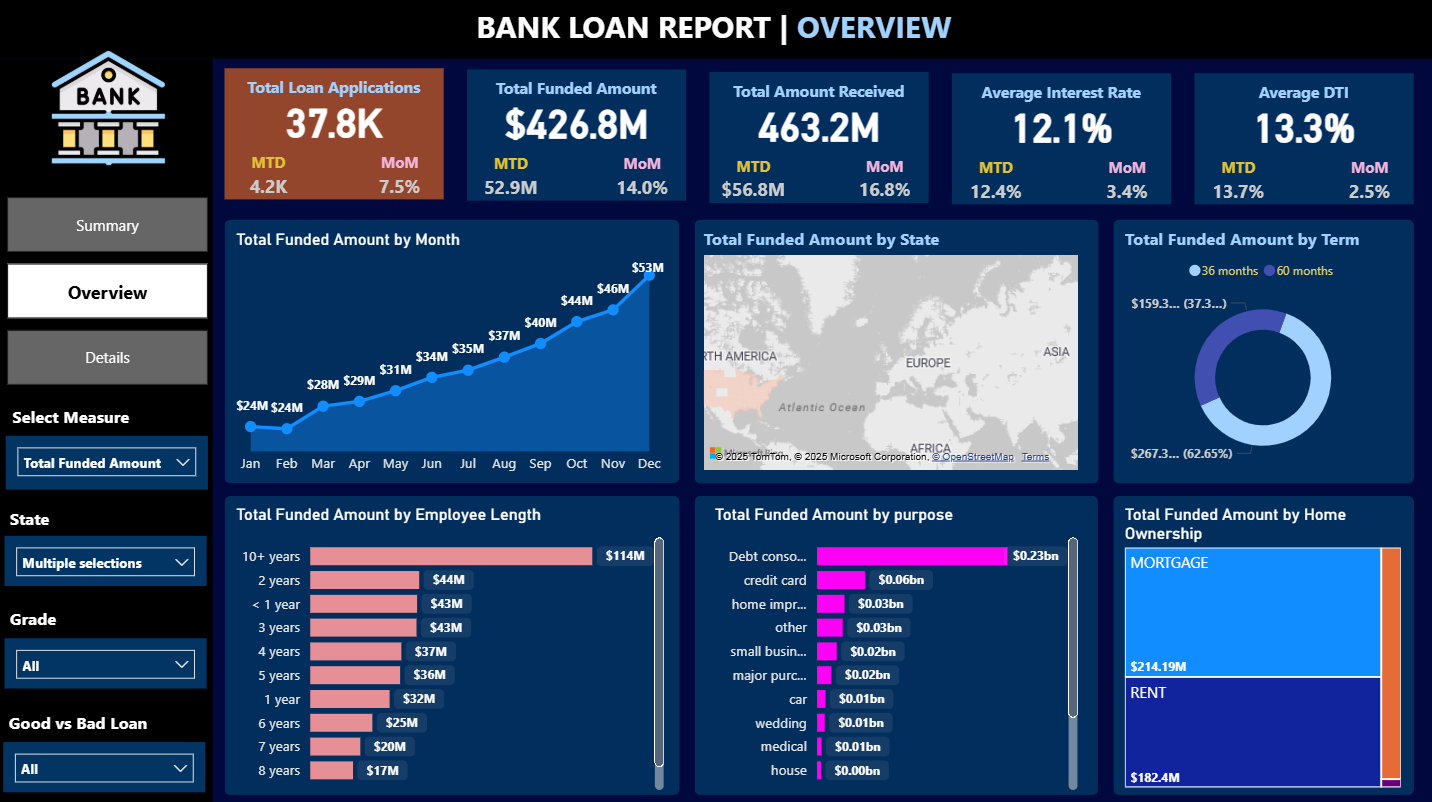

The dashboard page shown, as its layout file describes it:
{"tool":"powerbi","page":{"name":"Overview","canvas":[1280,720],"ordinal":1},"visuals":[{"type":"shape","box":[0,55.5,192,664.7],"z":0},{"type":"shape","box":[202.7,63.9,195.4,117],"z":0,"group":"g3"},{"type":"shape","box":[419.1,64.1,195.4,117],"z":0,"group":"g4"},{"type":"shape","box":[634.8,66.6,195.4,117],"z":0,"group":"g5"},{"type":"shape","box":[850.5,67.9,195.4,117],"z":0,"group":"g6"},{"type":"shape","box":[1066.2,67.9,195.4,117],"z":0,"group":"g7"},{"type":"shape","box":[0,0,1280,55],"z":1000},{"type":"card","fields":{"Values":["bank_loan_data.Total Loan Applications"]},"box":[202.7,88,195.4,43.4],"z":1000,"group":"g3"},{"type":"card","fields":{"Values":["bank_loan_data.Total Funded Amount"]},"box":[419.1,88.2,195.4,43.4],"z":1000,"group":"g4"},{"type":"card","fields":{"Values":["bank_loan_data.Total Amount Recieved"]},"box":[634.8,90.7,195.4,43.4],"z":1000,"group":"g5"},{"type":"card","fields":{"Values":["bank_loan_data.Average Interest Rate"]},"box":[850.5,92,195.4,43.4],"z":1000,"group":"g6"},{"type":"card","fields":{"Values":["bank_loan_data.Average DTI"]},"box":[1066.2,92,195.4,43.4],"z":1000,"group":"g7"},{"type":"textbox","box":[208.7,66.3,183.4,31.4],"z":2000,"group":"g3"},{"type":"textbox","box":[425.1,66.5,183.4,31.4],"z":2000,"group":"g4"},{"type":"textbox","box":[640.8,69,183.4,31.4],"z":2000,"group":"g5"},{"type":"textbox","box":[856.5,70.3,183.4,31.4],"z":2000,"group":"g6"},{"type":"textbox","box":[1072.2,70.3,183.4,31.4],"z":2000,"group":"g7"},{"type":"shape","box":[202.5,198.6,405,235],"z":2000},{"type":"textbox","box":[422.3,3.6,437.9,48.3],"z":3000},{"type":"card","title":"MTD","fields":{"Values":["bank_loan_data.MTD Loan Applications"]},"box":[202.7,138.7,78.4,47.1],"z":3000,"group":"g3"},{"type":"card","title":"MTD","fields":{"Values":["bank_loan_data.MTD Funded Amount"]},"box":[419.1,138.9,78.4,47.1],"z":3000,"group":"g4"},{"type":"card","title":"MTD","fields":{"Values":["bank_loan_data.MTD Total Amount Recieved"]},"box":[634.8,141.4,78.4,47.1],"z":3000,"group":"g5"},{"type":"card","title":"MTD","fields":{"Values":["bank_loan_data.MTD Average Int. Rate"]},"box":[850.5,142.7,78.4,47.1],"z":3000,"group":"g6"},{"type":"card","title":"MTD","fields":{"Values":["bank_loan_data.MTD Average DTI"]},"box":[1066.2,142.7,78.4,47.1],"z":3000,"group":"g7"},{"type":"group","id":"g1","title":"Group 1","box":[202.7,63.9,195.4,121.9],"z":4000},{"type":"card","title":"MoM","fields":{"Values":["bank_loan_data.MoM Loan Applications"]},"box":[319.7,138.7,78.4,47.1],"z":4000,"group":"g3"},{"type":"card","title":"MoM","fields":{"Values":["bank_loan_data.MoM Total Funded Amount"]},"box":[536.1,138.9,78.4,47.1],"z":4000,"group":"g4"},{"type":"card","title":"MoM","fields":{"Values":["bank_loan_data.MoM Total Recieved Amount"]},"box":[751.8,141.4,78.4,47.1],"z":4000,"group":"g5"},{"type":"card","title":"MoM","fields":{"Values":["bank_loan_data.MoM Avg Int. Rate"]},"box":[967.5,142.7,78.4,47.1],"z":4000,"group":"g6"},{"type":"card","title":"MoM","fields":{"Values":["bank_loan_data.MoM Average DTI"]},"box":[1183.2,142.7,78.4,47.1],"z":4000,"group":"g7"},{"type":"group","id":"g2","title":"Group 1","box":[419.1,64.1,194.8,121.7],"z":5000},{"type":"group","id":"g3","title":"Group 2","box":[202.7,63.9,195.4,121.9],"z":5004,"group":"g1"},{"type":"group","id":"g4","title":"Group 2","box":[419.1,64.1,195.4,121.9],"z":5004,"group":"g2"},{"type":"group","id":"g5","title":"Group 2","box":[634.8,66.6,195.4,121.9],"z":5004,"group":"g8"},{"type":"group","id":"g6","title":"Group 2","box":[850.5,67.9,195.4,121.9],"z":5004,"group":"g9"},{"type":"group","id":"g7","title":"Group 2","box":[1066.2,67.9,195.4,121.9],"z":5004,"group":"g10"},{"type":"group","id":"g8","title":"Group 1","box":[634.8,66.6,194.8,121.7],"z":6000},{"type":"group","id":"g9","title":"Group 1","box":[850.5,67.9,194.8,121.7],"z":7000},{"type":"group","id":"g10","title":"Group 1","box":[1066.2,67.9,194.8,121.7],"z":8000},{"type":"slicer","fields":{"Values":["bank_loan_data.address_state"]},"box":[7,479.4,179.8,44.6],"z":9000},{"type":"textbox","box":[6.8,449.5,56.7,32.6],"z":10000},{"type":"slicer","fields":{"Values":["bank_loan_data.grade"]},"box":[6.3,571.6,179.8,44.6],"z":11000},{"type":"textbox","box":[6.3,539,65.1,32.6],"z":12000},{"type":"textbox","box":[6,631,161.7,32.6],"z":13000},{"type":"slicer","fields":{"Values":["bank_loan_data.Good vs Bad Loan"]},"box":[6,663.5,179.8,44.6],"z":14000},{"type":"areaChart","fields":{"Y":["bank_loan_data.Total Funded Amount"],"Category":["Date Table.Month"]},"box":[208.7,207.5,390.9,226.8],"z":15000},{"type":"slicer","fields":{"Values":["Select Measure.Select Measure"]},"box":[8.2,390.6,179.8,48.3],"z":16000},{"type":"textbox","box":[9.4,358.1,126.7,41],"z":17000},{"type":"shape","box":[621.3,197.9,360,235.3],"z":18000},{"type":"filledMap","fields":{"Y":["bank_loan_data.Total Funded Amount"],"Category":["bank_loan_data.address_state"]},"box":[624.9,205.1,342.6,220.8],"z":19000},{"type":"shape","box":[994.1,197.9,267.8,235.3],"z":20000},{"type":"donutChart","fields":{"Y":["bank_loan_data.Total Funded Amount"],"Category":["bank_loan_data.term"]},"box":[1000.1,205.1,255.8,220.8],"z":21000},{"type":"shape","box":[202.7,444,405.4,266.6],"z":22000},{"type":"barChart","fields":{"Y":["bank_loan_data.Total Funded Amount"],"Category":["bank_loan_data.emp_length"]},"box":[208.7,452.4,390.9,259.4],"z":23000},{"type":"shape","box":[621.3,444,359.5,266.6],"z":24000},{"type":"barChart","fields":{"Y":["bank_loan_data.Total Funded Amount"],"Category":["bank_loan_data.purpose"]},"box":[634.6,452.4,333,259.4],"z":25000},{"type":"shape","box":[994.1,444,267.8,266.6],"z":26000},{"type":"treemap","fields":{"Values":["bank_loan_data.Total Funded Amount"],"Group":["bank_loan_data.home_ownership"]},"box":[1000.1,452.4,255.8,257],"z":27000},{"type":"pageNavigator","box":[8.4,178.6,179.8,168.9],"z":28000},{"type":"image","box":[41,39.8,115.8,115.8],"z":29000}]}

Visuals, with their boxes in screenshot pixels (x1, y1, x2, y2), scaled from the page's 1280x720 canvas onto the 1432x802 screenshot:
shape: {"left": 0, "top": 62, "right": 215, "bottom": 801}
shape: {"left": 227, "top": 71, "right": 445, "bottom": 202}
shape: {"left": 469, "top": 71, "right": 687, "bottom": 202}
shape: {"left": 710, "top": 74, "right": 929, "bottom": 205}
shape: {"left": 951, "top": 76, "right": 1170, "bottom": 206}
shape: {"left": 1193, "top": 76, "right": 1411, "bottom": 206}
shape: {"left": 0, "top": 0, "right": 1431, "bottom": 61}
card - bank_loan_data.Total Loan Applications: {"left": 227, "top": 98, "right": 445, "bottom": 146}
card - bank_loan_data.Total Funded Amount: {"left": 469, "top": 98, "right": 687, "bottom": 147}
card - bank_loan_data.Total Amount Recieved: {"left": 710, "top": 101, "right": 929, "bottom": 149}
card - bank_loan_data.Average Interest Rate: {"left": 951, "top": 102, "right": 1170, "bottom": 151}
card - bank_loan_data.Average DTI: {"left": 1193, "top": 102, "right": 1411, "bottom": 151}
textbox: {"left": 233, "top": 74, "right": 439, "bottom": 109}
textbox: {"left": 476, "top": 74, "right": 681, "bottom": 109}
textbox: {"left": 717, "top": 77, "right": 922, "bottom": 112}
textbox: {"left": 958, "top": 78, "right": 1163, "bottom": 113}
textbox: {"left": 1200, "top": 78, "right": 1405, "bottom": 113}
shape: {"left": 227, "top": 221, "right": 680, "bottom": 483}
textbox: {"left": 472, "top": 4, "right": 962, "bottom": 58}
"MTD" card: {"left": 227, "top": 154, "right": 314, "bottom": 207}
"MTD" card: {"left": 469, "top": 155, "right": 557, "bottom": 207}
"MTD" card: {"left": 710, "top": 158, "right": 798, "bottom": 210}
"MTD" card: {"left": 951, "top": 159, "right": 1039, "bottom": 211}
"MTD" card: {"left": 1193, "top": 159, "right": 1281, "bottom": 211}
"Group 1" group: {"left": 227, "top": 71, "right": 445, "bottom": 207}
"MoM" card: {"left": 358, "top": 154, "right": 445, "bottom": 207}
"MoM" card: {"left": 600, "top": 155, "right": 687, "bottom": 207}
"MoM" card: {"left": 841, "top": 158, "right": 929, "bottom": 210}
"MoM" card: {"left": 1082, "top": 159, "right": 1170, "bottom": 211}
"MoM" card: {"left": 1324, "top": 159, "right": 1411, "bottom": 211}
"Group 1" group: {"left": 469, "top": 71, "right": 687, "bottom": 207}
"Group 2" group: {"left": 227, "top": 71, "right": 445, "bottom": 207}
"Group 2" group: {"left": 469, "top": 71, "right": 687, "bottom": 207}
"Group 2" group: {"left": 710, "top": 74, "right": 929, "bottom": 210}
"Group 2" group: {"left": 951, "top": 76, "right": 1170, "bottom": 211}
"Group 2" group: {"left": 1193, "top": 76, "right": 1411, "bottom": 211}
"Group 1" group: {"left": 710, "top": 74, "right": 928, "bottom": 210}
"Group 1" group: {"left": 951, "top": 76, "right": 1169, "bottom": 211}
"Group 1" group: {"left": 1193, "top": 76, "right": 1411, "bottom": 211}
slicer - bank_loan_data.address_state: {"left": 8, "top": 534, "right": 209, "bottom": 584}
textbox: {"left": 8, "top": 501, "right": 71, "bottom": 537}
slicer - bank_loan_data.grade: {"left": 7, "top": 637, "right": 208, "bottom": 686}
textbox: {"left": 7, "top": 600, "right": 80, "bottom": 637}
textbox: {"left": 7, "top": 703, "right": 188, "bottom": 739}
slicer - bank_loan_data.Good vs Bad Loan: {"left": 7, "top": 739, "right": 208, "bottom": 789}
areaChart - bank_loan_data.Total Funded Amount x Date Table.Month: {"left": 233, "top": 231, "right": 671, "bottom": 484}
slicer - Select Measure.Select Measure: {"left": 9, "top": 435, "right": 210, "bottom": 489}
textbox: {"left": 11, "top": 399, "right": 152, "bottom": 445}
shape: {"left": 695, "top": 220, "right": 1098, "bottom": 483}
filledMap - bank_loan_data.Total Funded Amount x bank_loan_data.address_state: {"left": 699, "top": 228, "right": 1082, "bottom": 474}
shape: {"left": 1112, "top": 220, "right": 1412, "bottom": 483}
donutChart - bank_loan_data.Total Funded Amount x bank_loan_data.term: {"left": 1119, "top": 228, "right": 1405, "bottom": 474}
shape: {"left": 227, "top": 495, "right": 680, "bottom": 792}
barChart - bank_loan_data.Total Funded Amount x bank_loan_data.emp_length: {"left": 233, "top": 504, "right": 671, "bottom": 793}
shape: {"left": 695, "top": 495, "right": 1097, "bottom": 792}
barChart - bank_loan_data.Total Funded Amount x bank_loan_data.purpose: {"left": 710, "top": 504, "right": 1083, "bottom": 793}
shape: {"left": 1112, "top": 495, "right": 1412, "bottom": 792}
treemap - bank_loan_data.Total Funded Amount x bank_loan_data.home_ownership: {"left": 1119, "top": 504, "right": 1405, "bottom": 790}
pageNavigator: {"left": 9, "top": 199, "right": 211, "bottom": 387}
image: {"left": 46, "top": 44, "right": 175, "bottom": 173}
